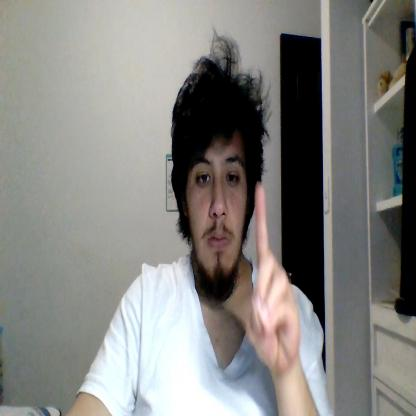D: (252, 184, 300, 372)
